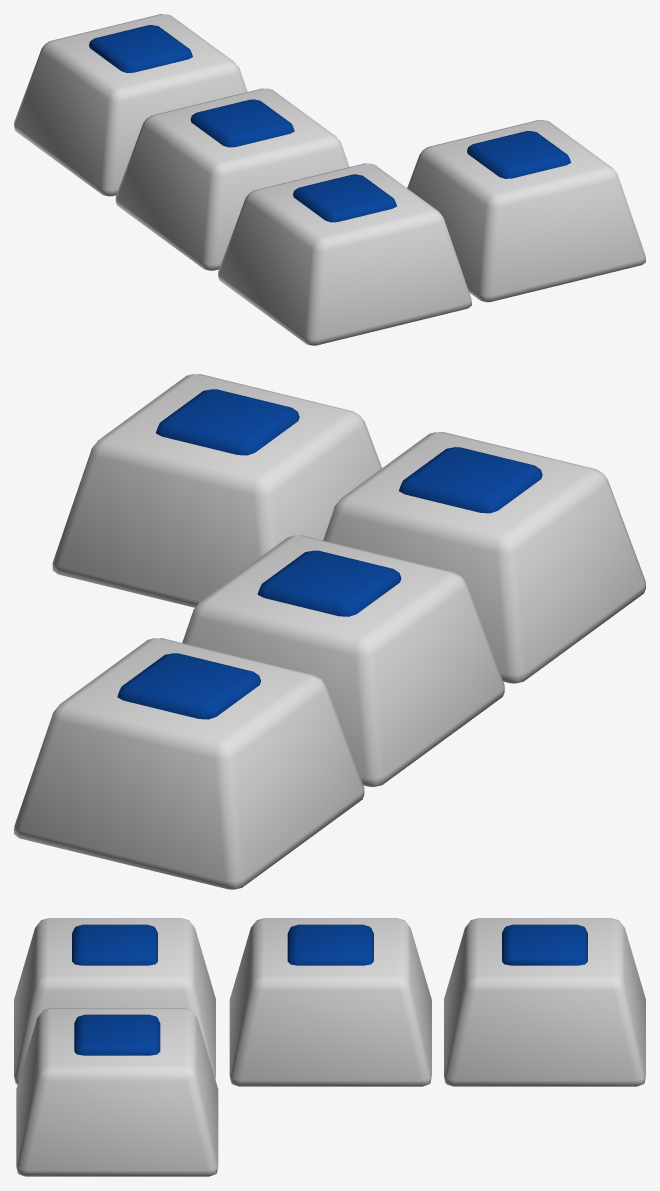
File: L_piece_right_low poly.fbx
3 renders of one model, top to bottom at view 1: azimuth 30°, elevation 25°; view 2: azimuth 150°, elevation 25°; view 3: azimuth 270°, elevation 25°, orthographic. The views are drawn at different scales.
Visible parts, largest first — view 1: Cube.043; view 2: Cube.043; view 3: Cube.043.
Boxes of the visible parts, x1=… form: Cube.043: x1=14, y1=14, x2=645, y2=345; Cube.043: x1=14, y1=374, x2=645, y2=889; Cube.043: x1=14, y1=918, x2=645, y2=1176.
Bounding box in the file's own units: 27.31 × 41.58 × 7.84.
